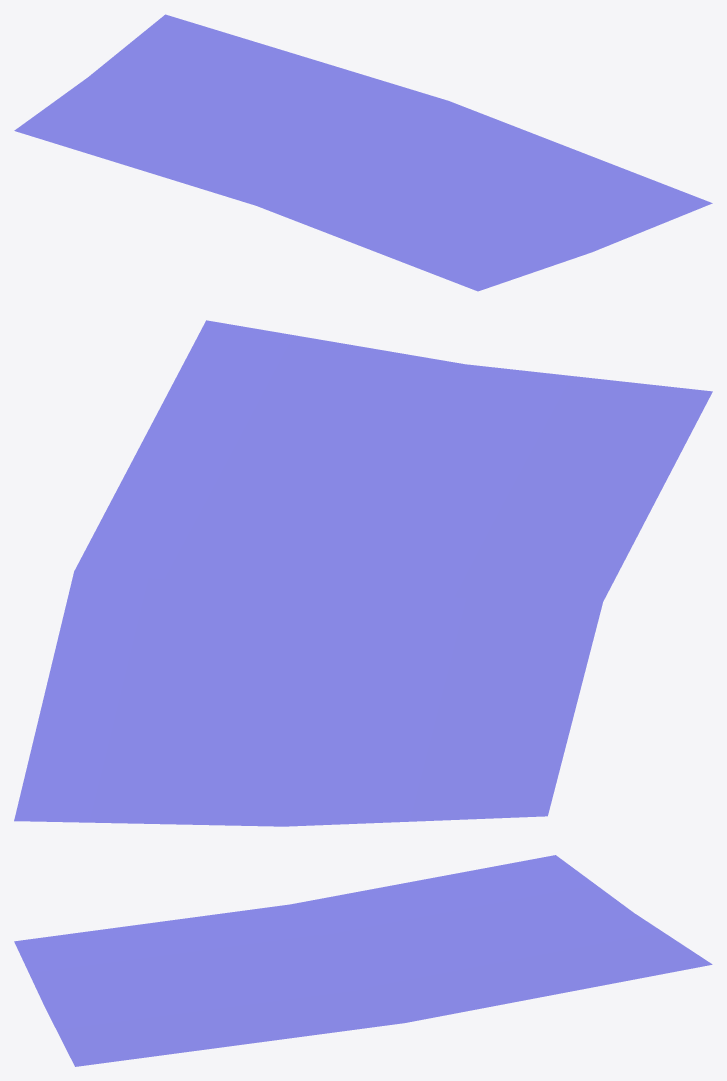
The model's file is track_la_coll_road_11.fbx.
3 views of the same model, one above another, from view 1: azimuth 30°, elevation 25°; view 2: azimuth 150°, elevation 25°; view 3: azimuth 270°, elevation 25° (orthographic). The views are drawn at different scales.
Parts seen in each view (by area): view 1: track_la_coll_road_11; view 2: track_la_coll_road_11; view 3: track_la_coll_road_11.
Boxes of the visible parts, x1,y1,x2,y2 form: track_la_coll_road_11: (14, 14, 712, 291); track_la_coll_road_11: (14, 320, 712, 826); track_la_coll_road_11: (14, 855, 712, 1066).
Bounding box in the file's own units: 64.47 × 0.5808 × 89.84.
